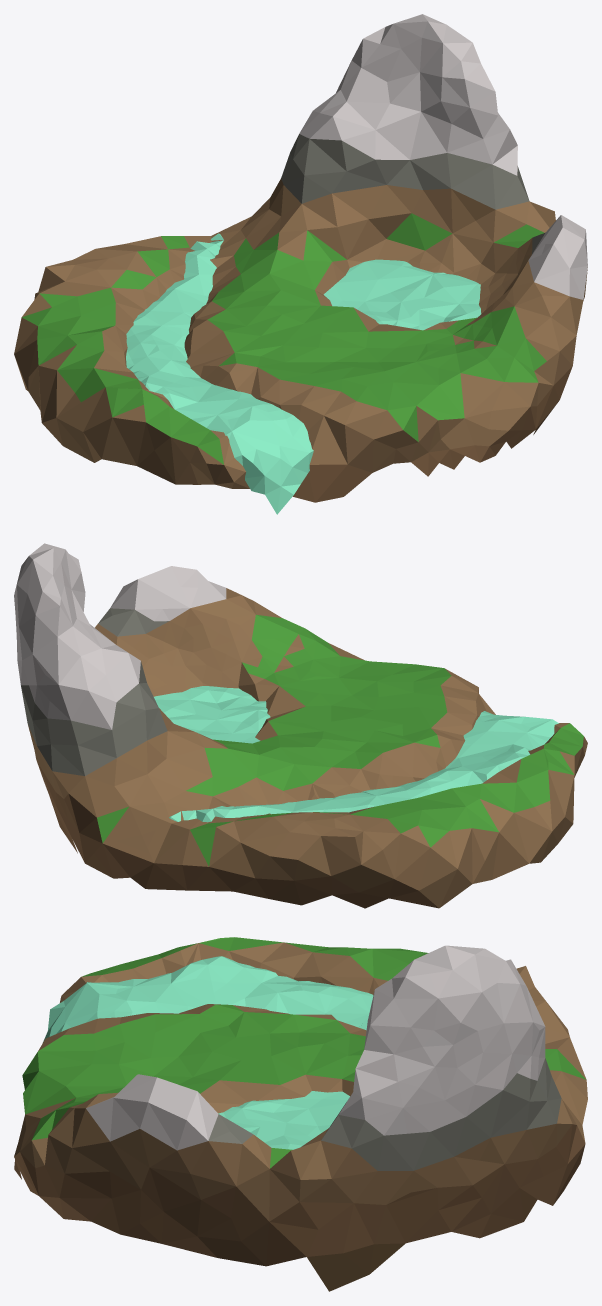
File: ground.glb
The picture shows the model from 3 angles, top to bottom: view 1: azimuth 30°, elevation 25°; view 2: azimuth 150°, elevation 25°; view 3: azimuth 270°, elevation 25°; orthographic projection. The views are drawn at different scales.
Parts seen in each view (by area): view 1: Icosphere, Plane; view 2: Icosphere, Plane; view 3: Icosphere, Plane.
Part boxes in pixels (left/top/right/bottom): Icosphere: left=14, top=14, right=587, bottom=502; Plane: left=126, top=233, right=481, bottom=514; Icosphere: left=14, top=543, right=587, bottom=908; Plane: left=154, top=686, right=558, bottom=822; Icosphere: left=14, top=937, right=587, bottom=1291; Plane: left=43, top=956, right=373, bottom=1149.
Size of the model in its own units: 19.03 by 10.53 by 16.72.
